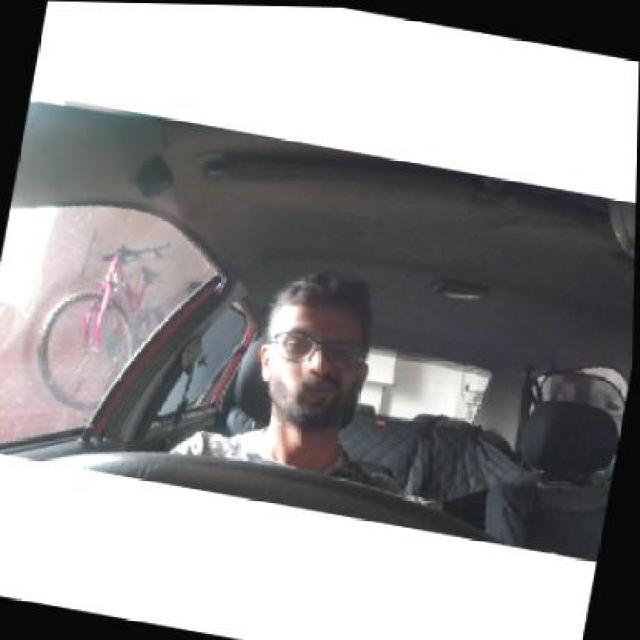drowsy: (262, 264, 382, 456)
